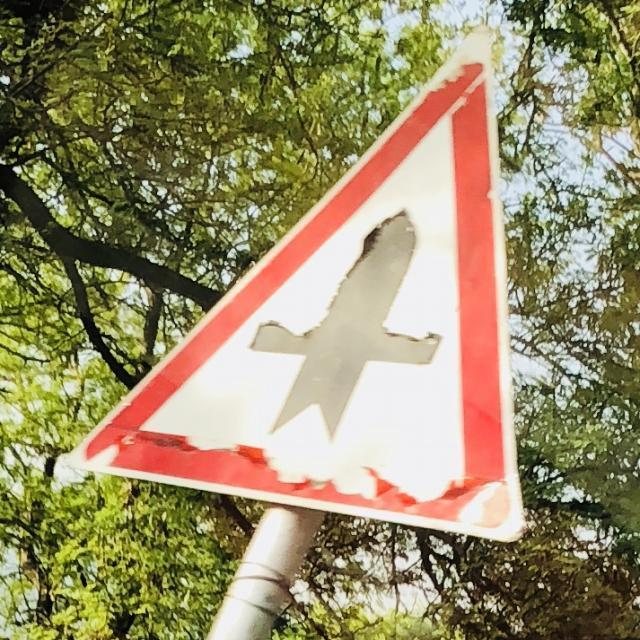cross road: (72, 18, 536, 550)
